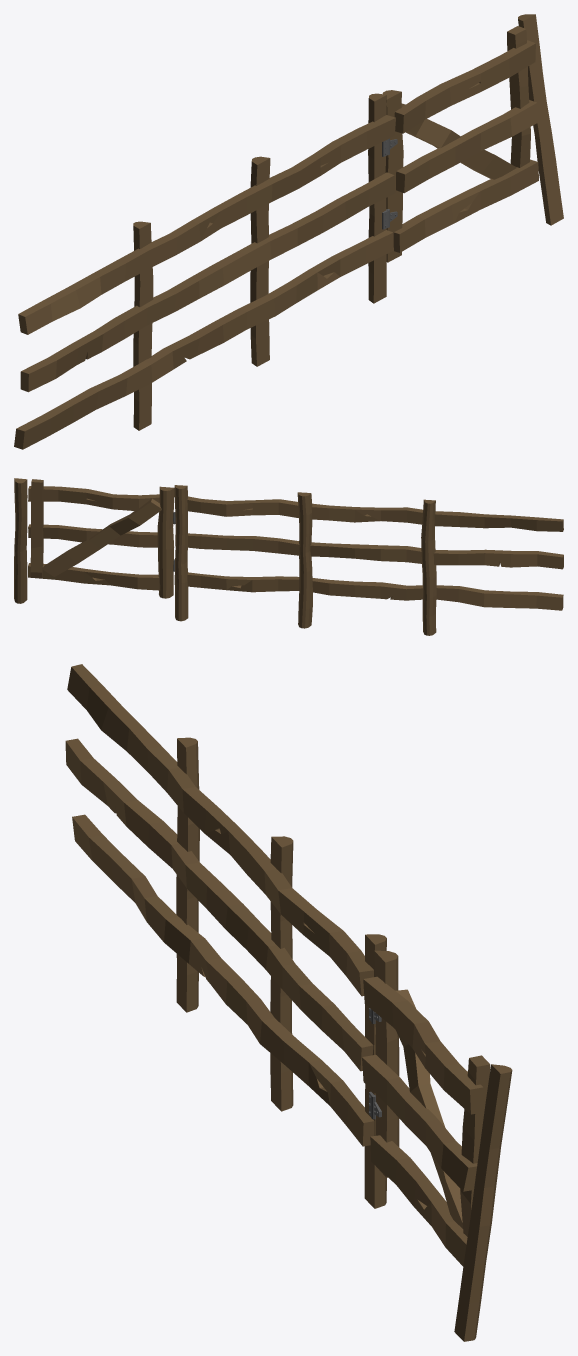
File: zaun_vorne.glb
The picture shows the model from 3 angles, top to bottom: view 1: azimuth 30°, elevation 25°; view 2: azimuth 150°, elevation 25°; view 3: azimuth 270°, elevation 25°; orthographic projection. The views are drawn at different scales.
Visible parts, largest first — view 1: Cube.053, Cube.923, Cube.054, Cube.922, Cube.924; view 2: Cube.053, Cube.923, Cube.054, Cube.924, Cube.922; view 3: Cube.053, Cube.923, Cube.054, Cube.922, Cube.924.
Part boxes in pixels (bbox=[...]): Cube.053: bbox=[14, 115, 395, 449]; Cube.923: bbox=[393, 26, 540, 252]; Cube.054: bbox=[133, 93, 386, 430]; Cube.922: bbox=[518, 14, 563, 225]; Cube.924: bbox=[382, 90, 403, 262]; Cube.053: bbox=[175, 496, 563, 610]; Cube.923: bbox=[28, 479, 161, 590]; Cube.054: bbox=[174, 485, 436, 635]; Cube.924: bbox=[157, 486, 174, 598]; Cube.922: bbox=[14, 478, 27, 603]; Cube.053: bbox=[65, 664, 374, 1146]; Cube.923: bbox=[362, 976, 490, 1266]; Cube.054: bbox=[176, 737, 386, 1208]; Cube.922: bbox=[454, 1064, 512, 1341]; Cube.924: bbox=[374, 950, 399, 1177].
Size of the model in its own units: 0.2133 by 0.0594 by 0.0909.
